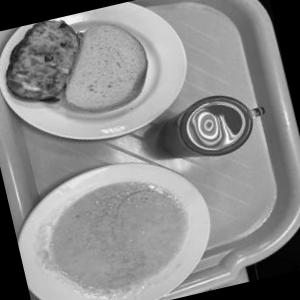bread: (47, 9, 172, 126)
cheese_sandwich: (0, 17, 93, 108)
coffee: (146, 72, 262, 174)
porridge: (21, 149, 216, 300)
